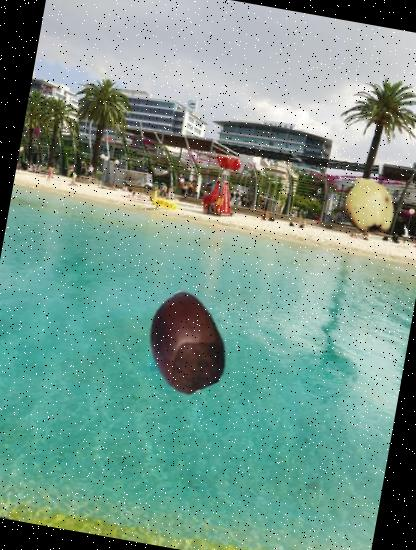Chestnut: (127, 285, 243, 401)
Quince: (335, 172, 403, 240)
